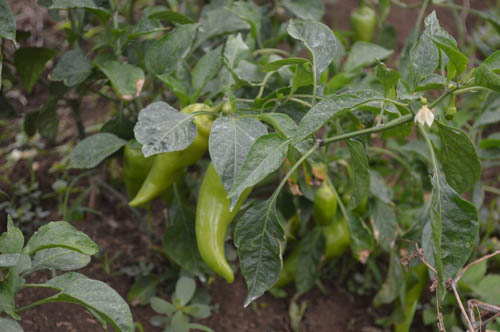ChiliPepper: (128, 106, 212, 204), (197, 154, 248, 286), (274, 222, 354, 280), (292, 183, 333, 225), (121, 145, 147, 207)
